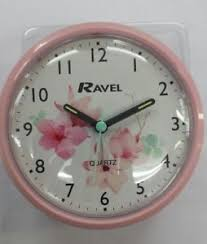alarm_clock: (0, 18, 204, 227), (0, 27, 204, 227), (6, 27, 204, 227)
